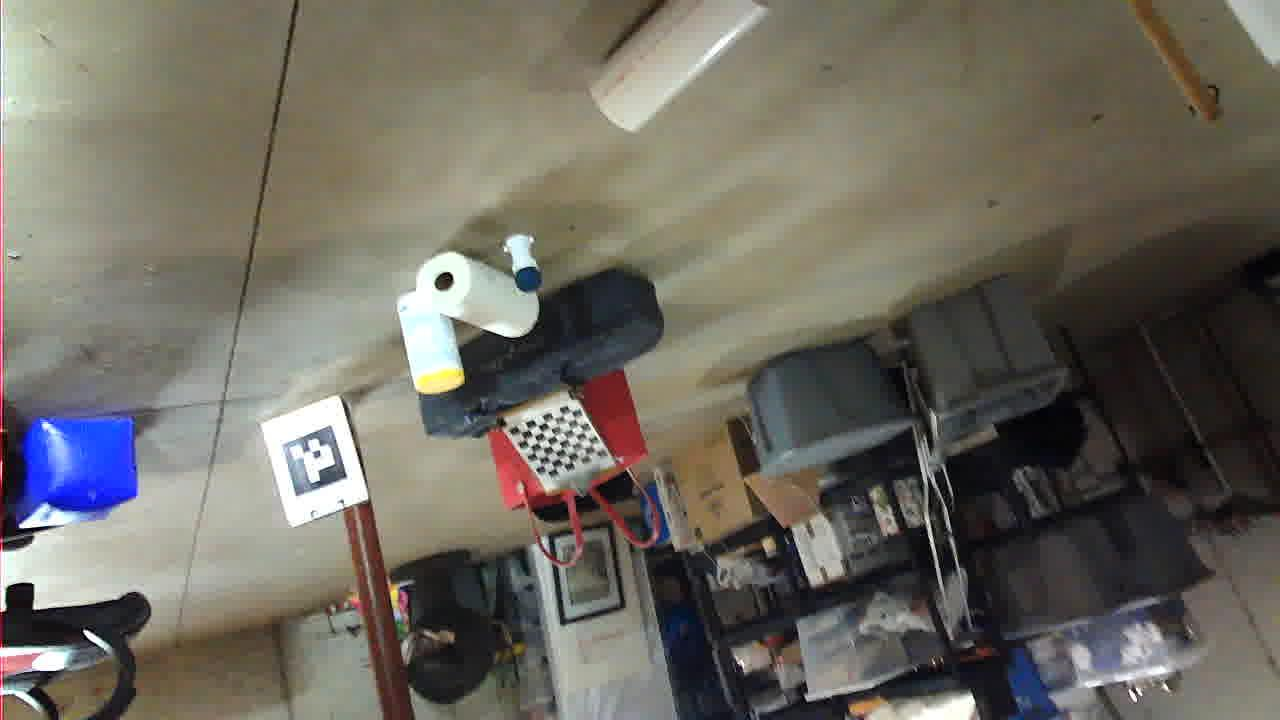coral: (507, 586, 692, 720)
